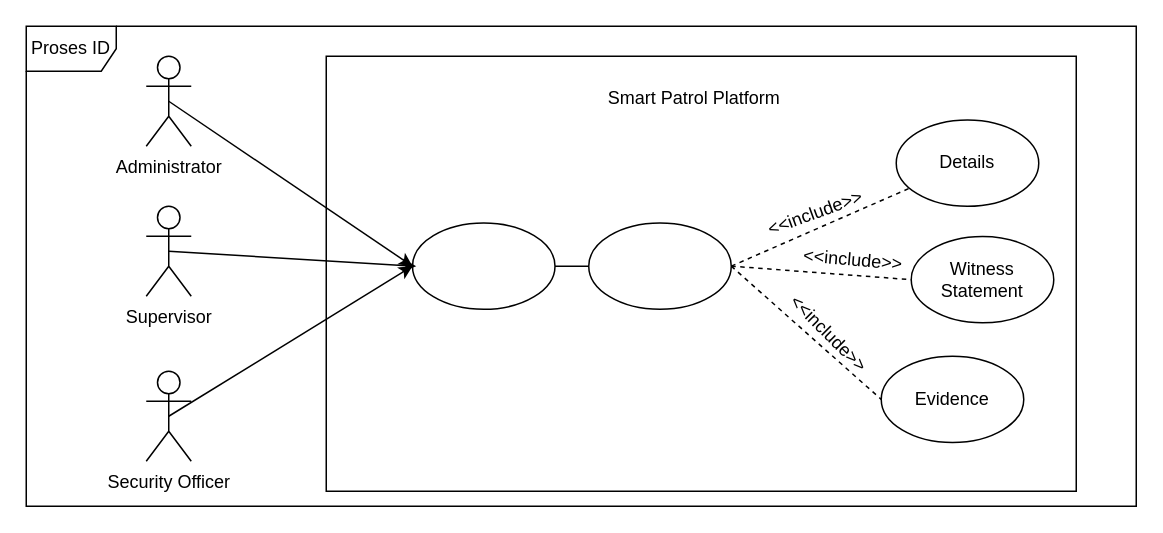
This 1163x533 diagram has some shape labels left out. Here are the shapes that lost their labels. From the top down, the centre of each, then its label:
point 483,265: Incidents Log
point 659,265: incidents Details
